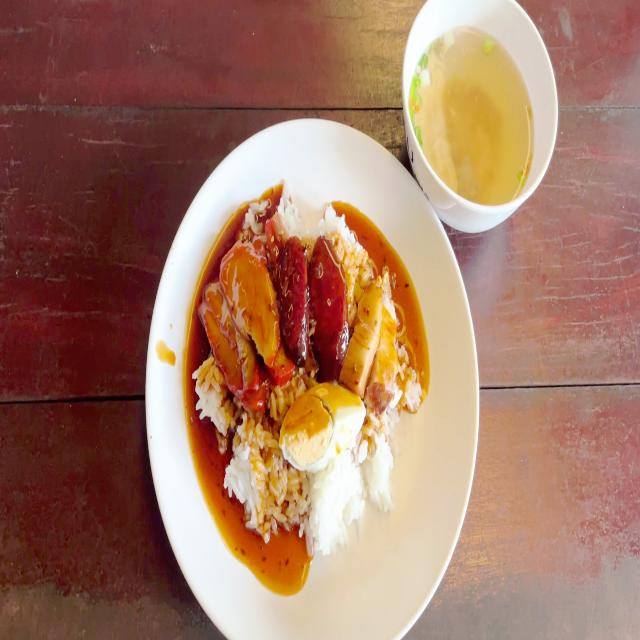boiled_egg: (281, 380, 364, 470)
chainese_sausage: (284, 233, 345, 372), (312, 245, 346, 372), (282, 236, 310, 346)
crispy_pork: (350, 272, 398, 400)
red_pork: (196, 243, 282, 405)
red_pork_and_crispy_pork: (195, 186, 427, 558)
rice: (297, 466, 363, 558), (235, 420, 286, 534), (364, 422, 399, 510)
